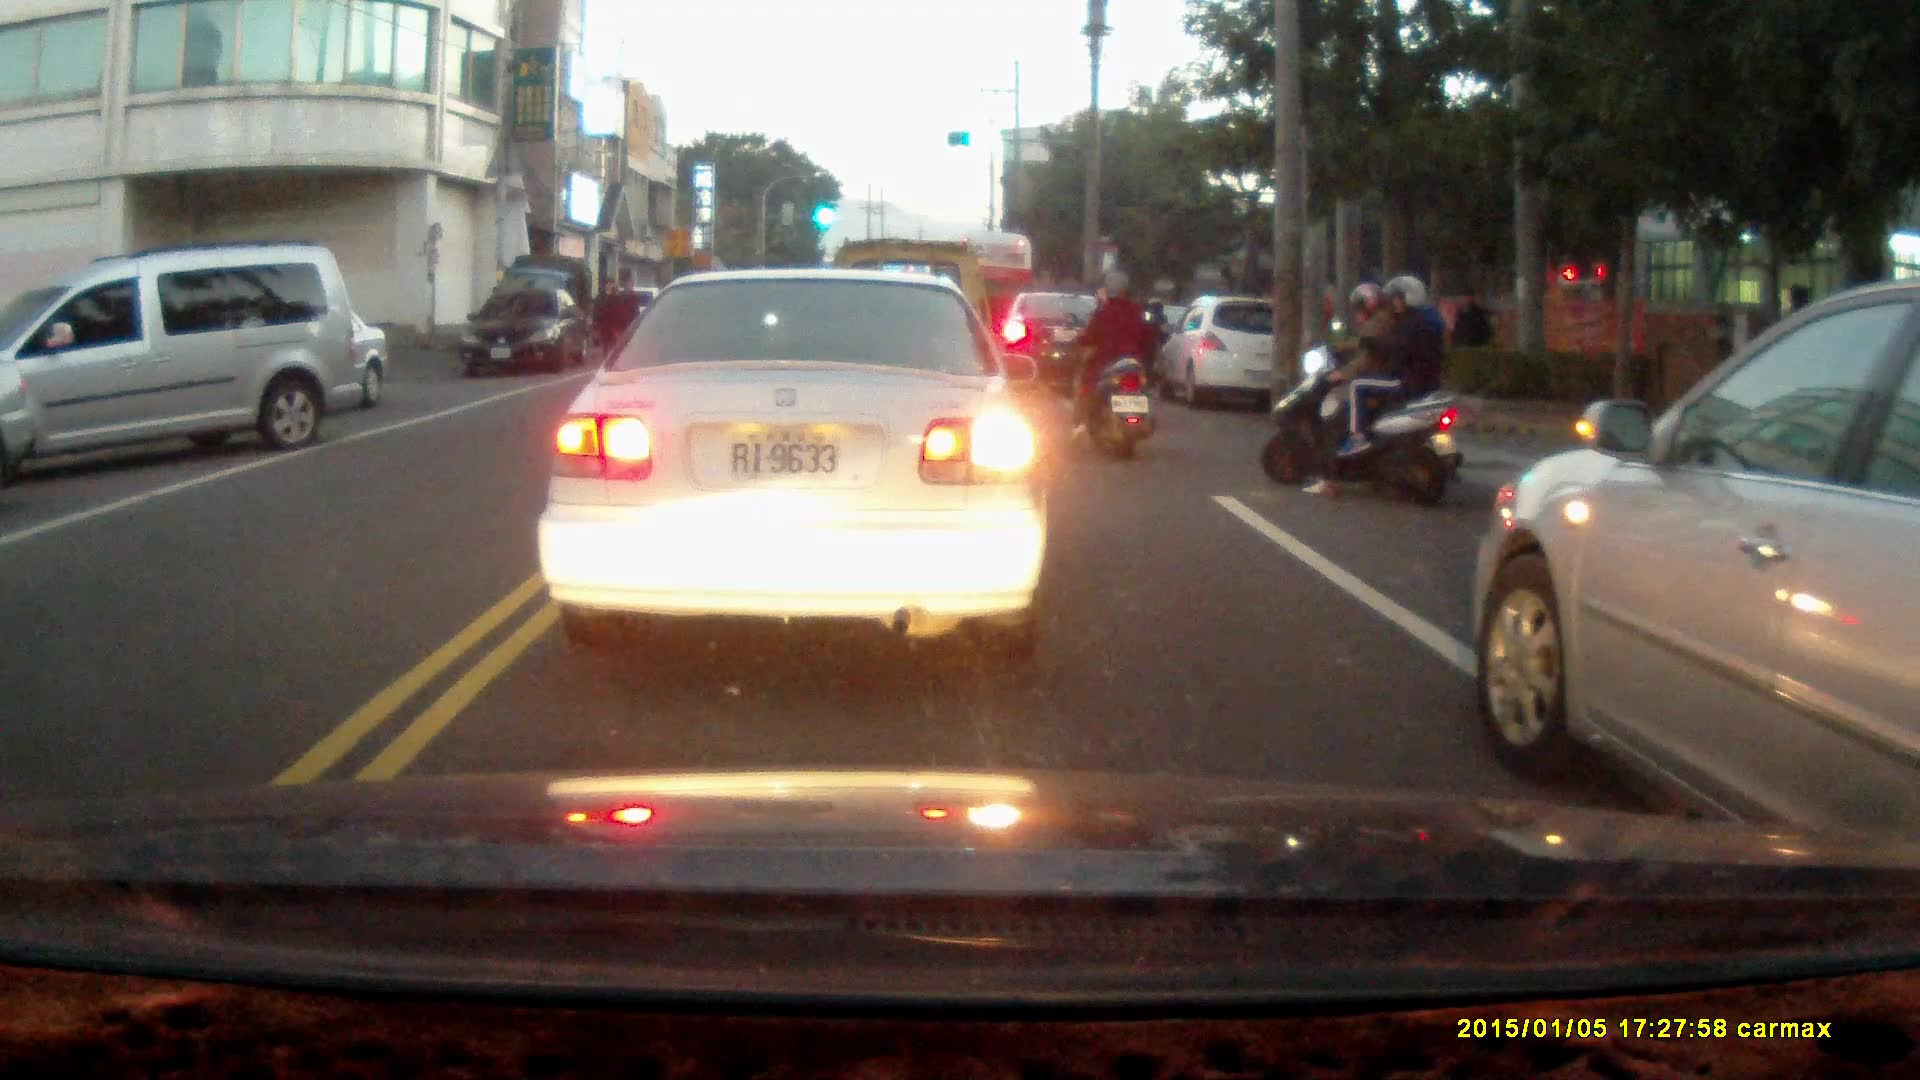pedestrian: (1447, 282, 1490, 380), (589, 276, 622, 365), (615, 273, 642, 359)
rider: (1256, 274, 1464, 506), (1065, 267, 1161, 463), (1137, 294, 1171, 377)
vehicle: (1478, 284, 1920, 844), (550, 265, 1051, 636), (1, 243, 362, 481), (1156, 295, 1305, 405), (992, 287, 1129, 395), (468, 284, 588, 377)
